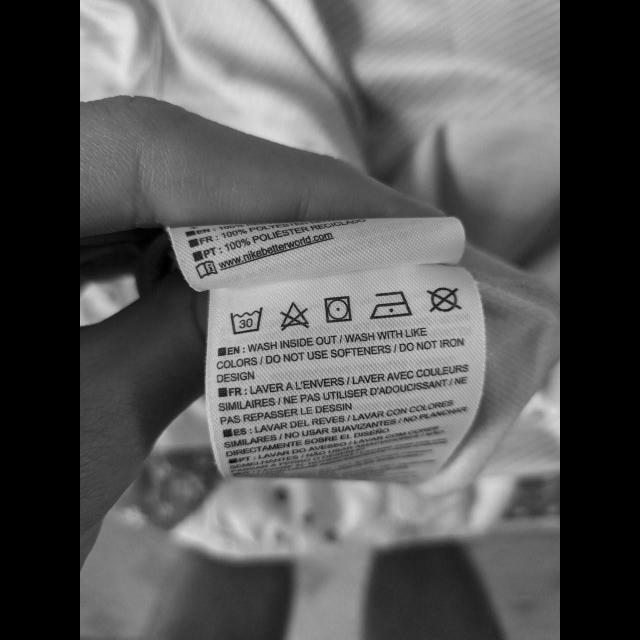30C: (228, 304, 266, 338)
DN_bleach: (277, 300, 313, 332)
DN_dry_clean: (424, 284, 464, 314)
iron_low: (368, 288, 414, 322)
tumble_dry_low: (323, 294, 355, 324)
